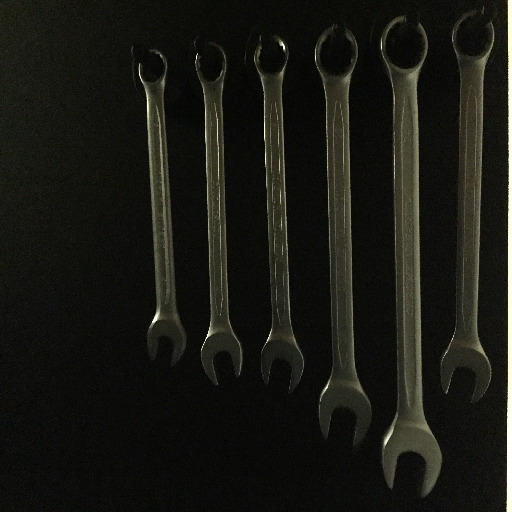bottom: (378, 421, 444, 500), (313, 382, 374, 447), (435, 338, 493, 406), (257, 333, 305, 395), (198, 327, 245, 389), (143, 316, 189, 368)
top: (376, 13, 432, 82), (310, 22, 361, 85), (448, 8, 498, 68), (249, 33, 293, 85), (190, 39, 231, 88), (132, 46, 172, 95)
